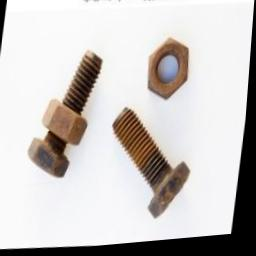Corroded-Bolt: (114, 108, 193, 221)
Corroded-Nut: (149, 39, 190, 102)
Corroded-Nut-and-Bolt: (30, 57, 103, 179)
